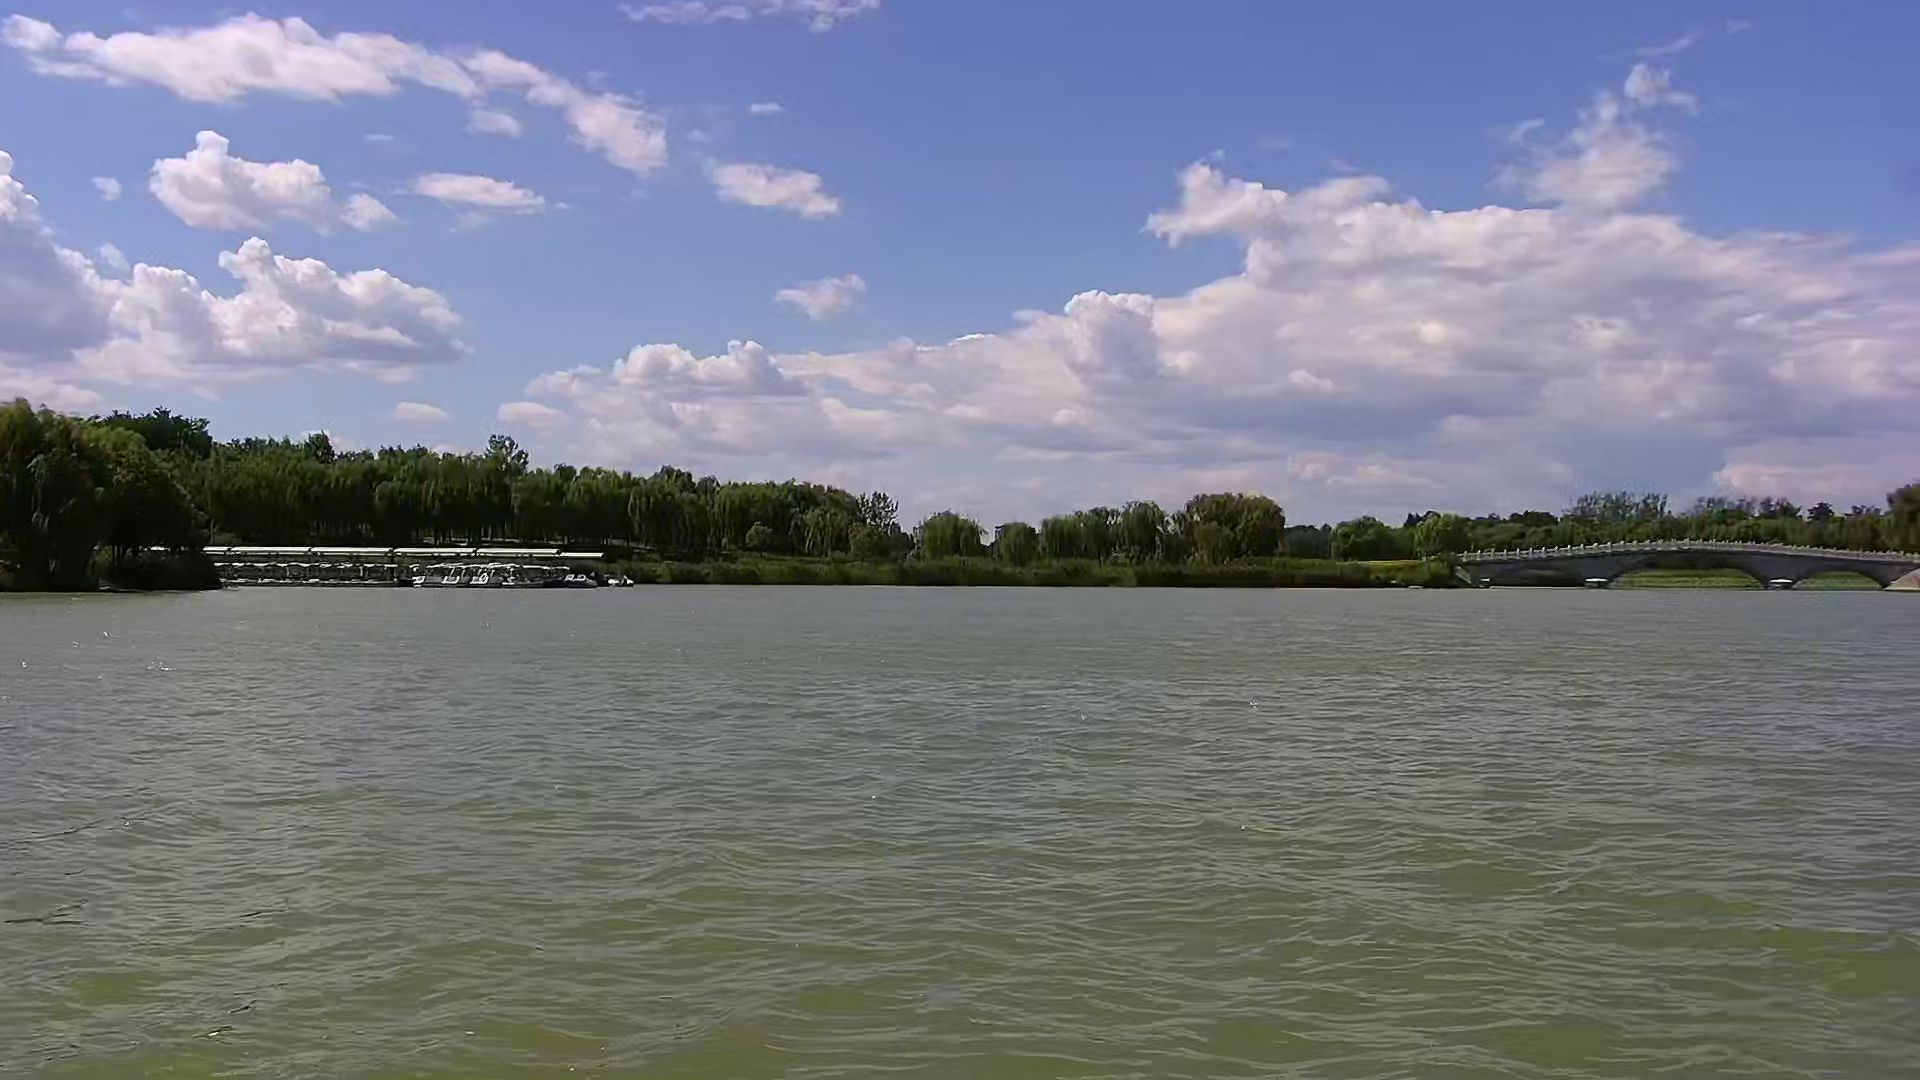bridge: (1457, 535, 1920, 591)
harbor: (200, 541, 632, 592)
